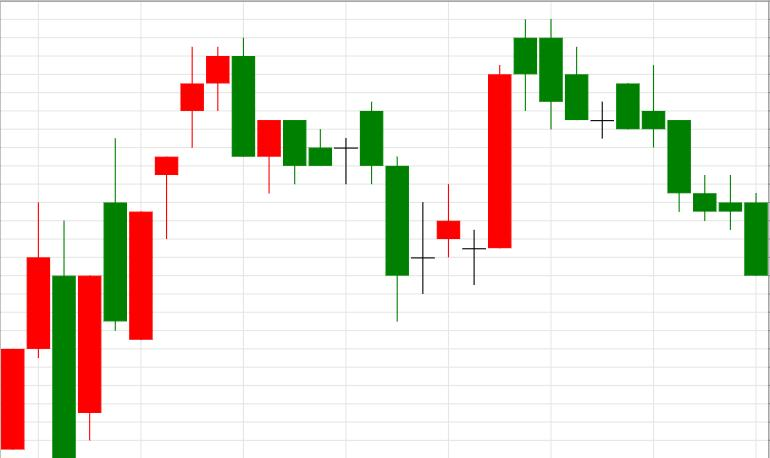bearish_engulfing_fall: (129, 37, 255, 339)
